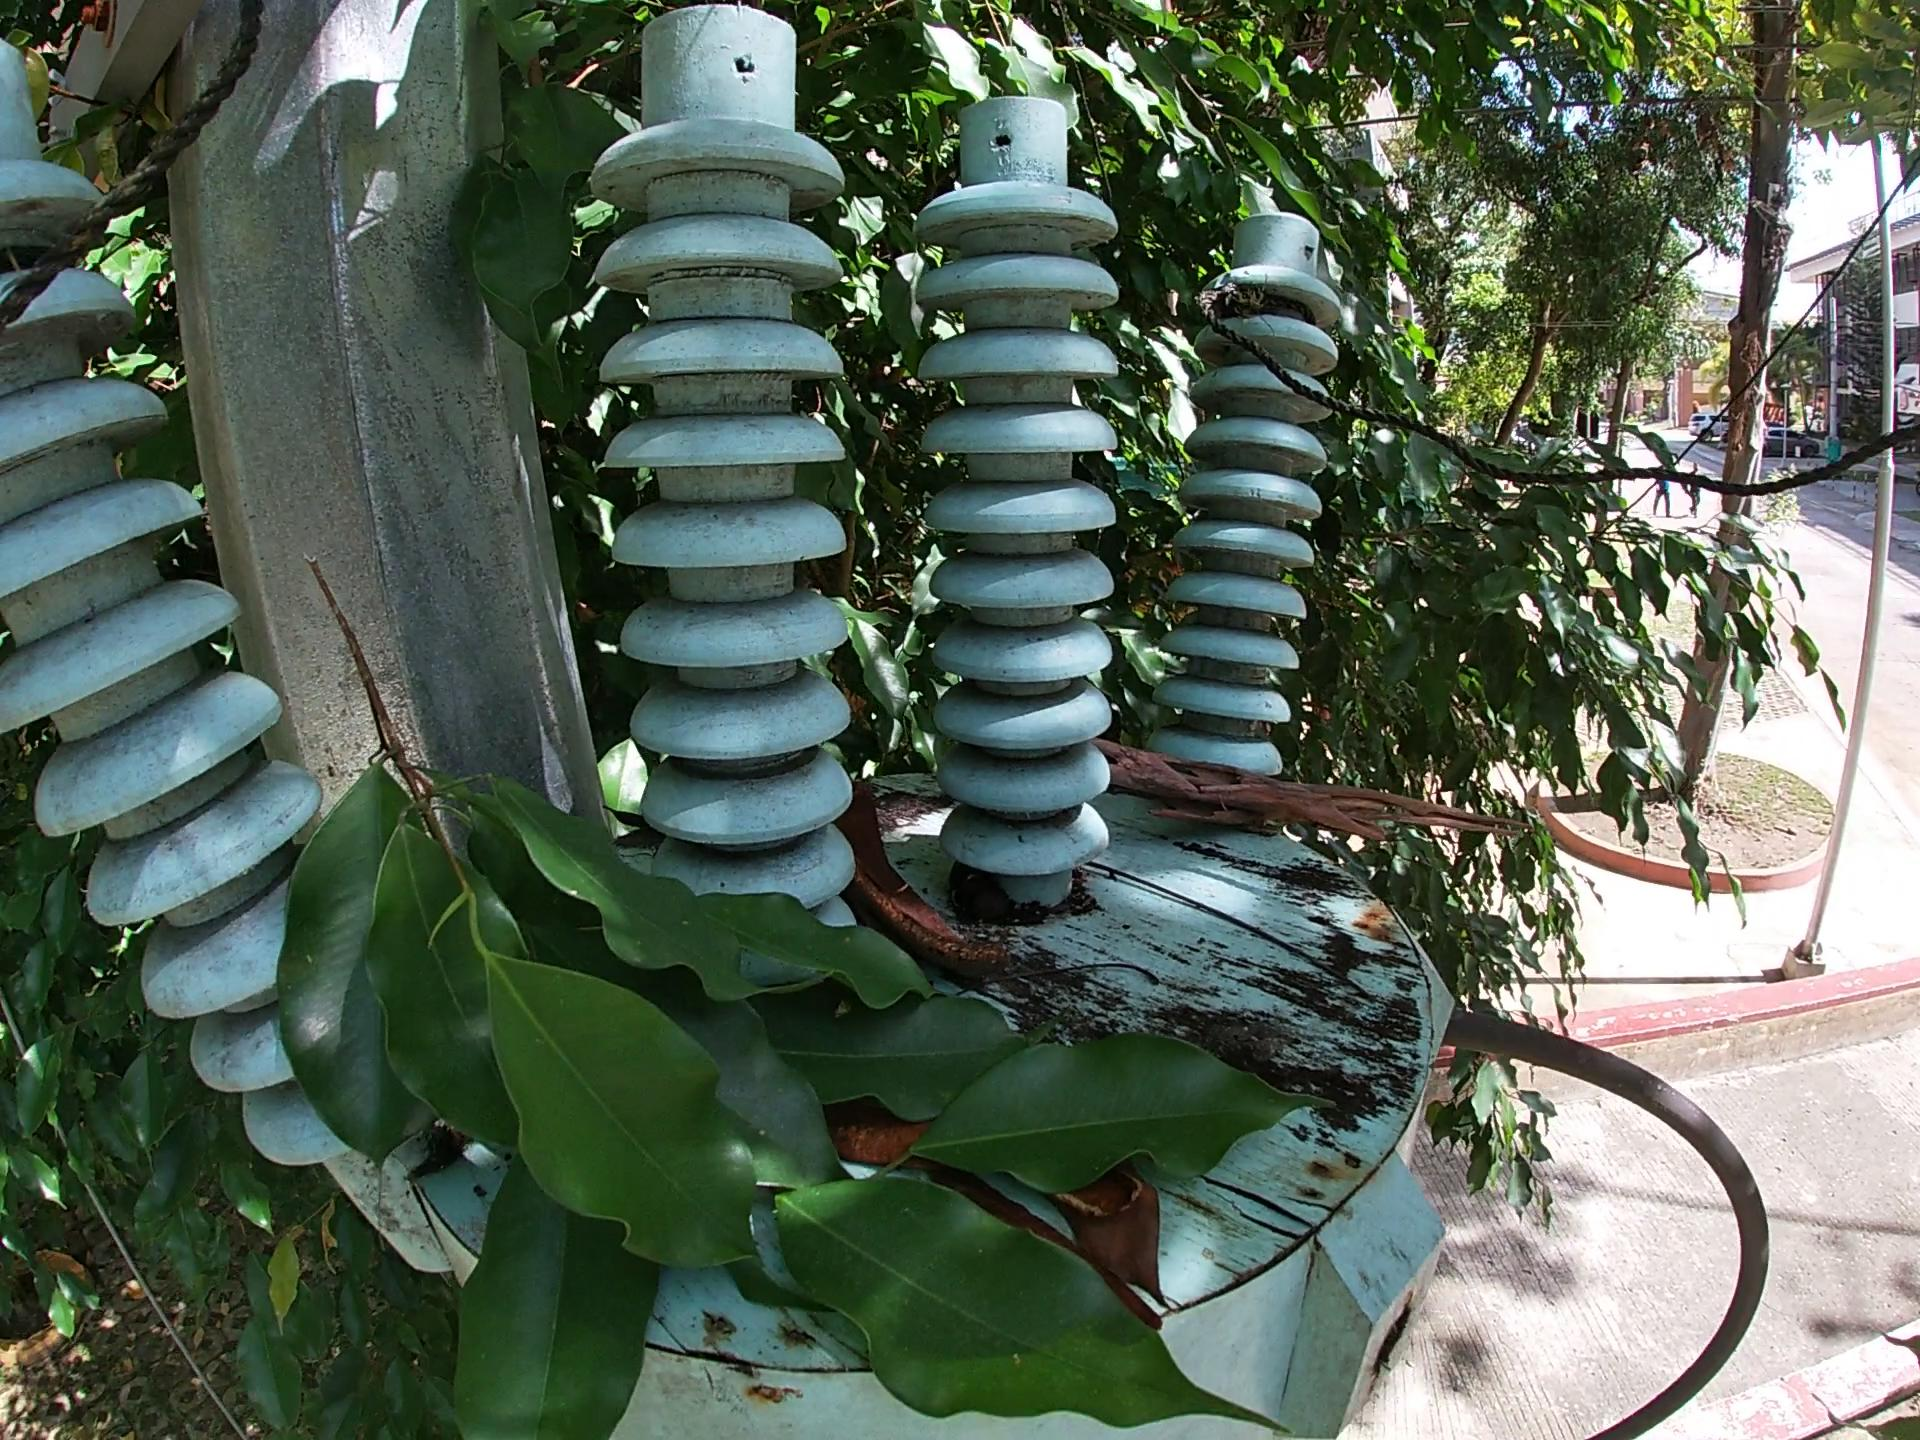branch with leaves: (228, 548, 1361, 1440)
mahogany fruit: (813, 1100, 1235, 1317), (830, 764, 1022, 976)
tree branch: (1072, 706, 1541, 879), (1079, 861, 1407, 1016)
